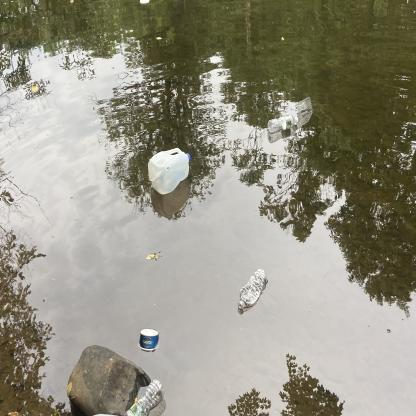trash: (144, 146, 197, 198), (120, 375, 168, 416), (236, 264, 270, 317), (134, 324, 161, 358), (264, 112, 299, 134), (291, 96, 315, 126)
